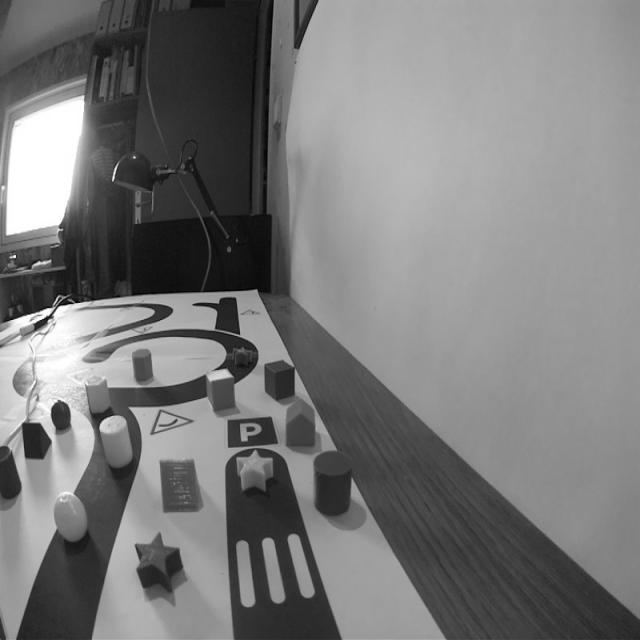Parking: (223, 412, 281, 454)
ball: (51, 489, 91, 549), (49, 396, 74, 434)
cube: (261, 354, 298, 402), (204, 367, 239, 413)
cylinder: (309, 444, 356, 520), (97, 411, 137, 470), (0, 442, 24, 506)
hexagon: (83, 372, 112, 417), (129, 345, 155, 385)
home: (283, 394, 317, 455)
star: (132, 531, 195, 600), (231, 446, 278, 494), (230, 344, 256, 370)
triangle: (156, 455, 204, 518), (20, 418, 55, 462)
zebracross: (223, 527, 330, 611)
